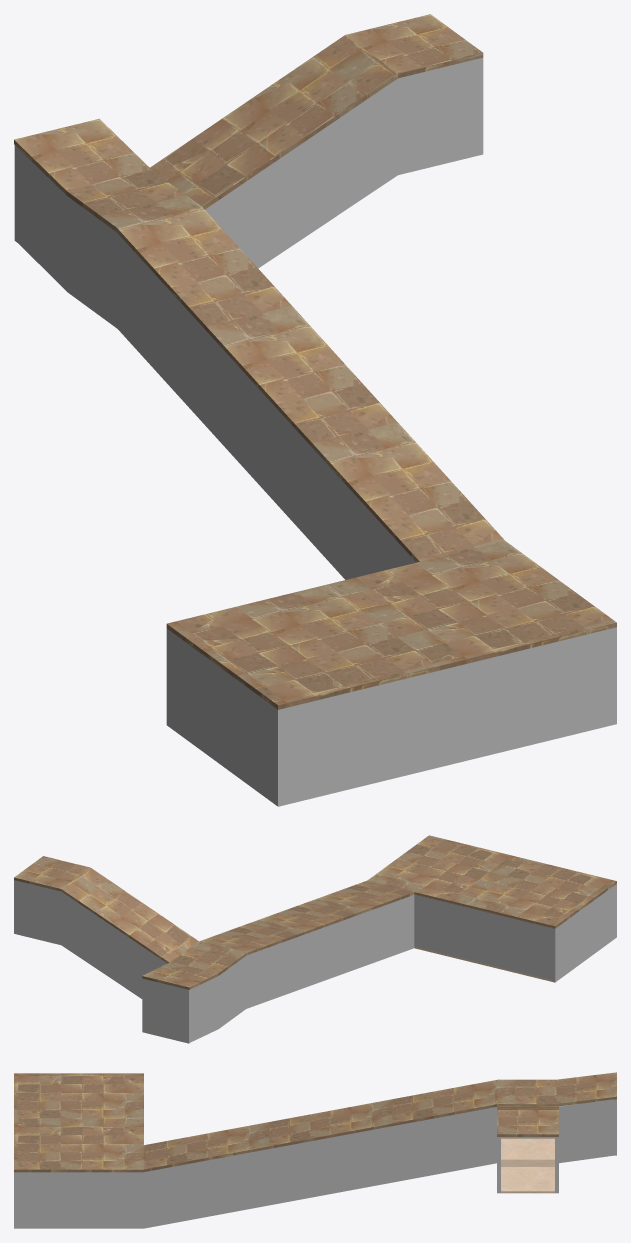
The picture shows the model from 3 angles, top to bottom: view 1: azimuth 30°, elevation 25°; view 2: azimuth 150°, elevation 25°; view 3: azimuth 270°, elevation 25°; orthographic projection. The views are drawn at different scales.
Parts seen in each view (by area): view 1: Teto.003, Cube.051, Cube.049, Cube.029, Teto.002, Cube.053, Cube.010, Teto.001; view 2: Teto.003, Cube.051, Cube.052, Teto.002, Cube.019, Cube.053, Cube.054, Cube.050, Teto.001, Floor1; view 3: Cube.048, Teto.003, Floor1, Teto.001, Teto.002.
Boxes of the visible parts, bbox=[...] form: Teto.003: bbox=[14, 118, 616, 709]; Cube.051: bbox=[18, 148, 415, 579]; Cube.049: bbox=[283, 628, 611, 805]; Cube.029: bbox=[205, 78, 397, 268]; Teto.002: bbox=[150, 35, 397, 209]; Cube.053: bbox=[166, 628, 283, 806]; Cube.010: bbox=[398, 57, 483, 175]; Teto.001: bbox=[345, 14, 483, 78]; Teto.003: bbox=[142, 835, 616, 989]; Cube.051: bbox=[191, 895, 414, 1041]; Cube.052: bbox=[414, 894, 551, 979]; Teto.002: bbox=[61, 867, 198, 963]; Cube.019: bbox=[61, 892, 166, 998]; Cube.053: bbox=[552, 884, 616, 982]; Cube.054: bbox=[142, 978, 190, 1043]; Cube.050: bbox=[14, 880, 61, 944]; Teto.001: bbox=[14, 856, 90, 891]; Floor1: bbox=[414, 946, 551, 981]; Cube.048: bbox=[14, 1099, 613, 1228]; Teto.003: bbox=[14, 1072, 616, 1172]; Floor1: bbox=[501, 1138, 554, 1193]; Teto.001: bbox=[497, 1110, 558, 1136]; Teto.002: bbox=[497, 1104, 558, 1109].
Size of the model in its own units: 2870 by 1323 by 4149.
